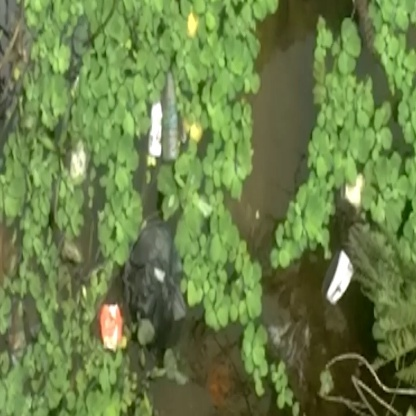plastic-bag: (123, 215, 198, 337)
